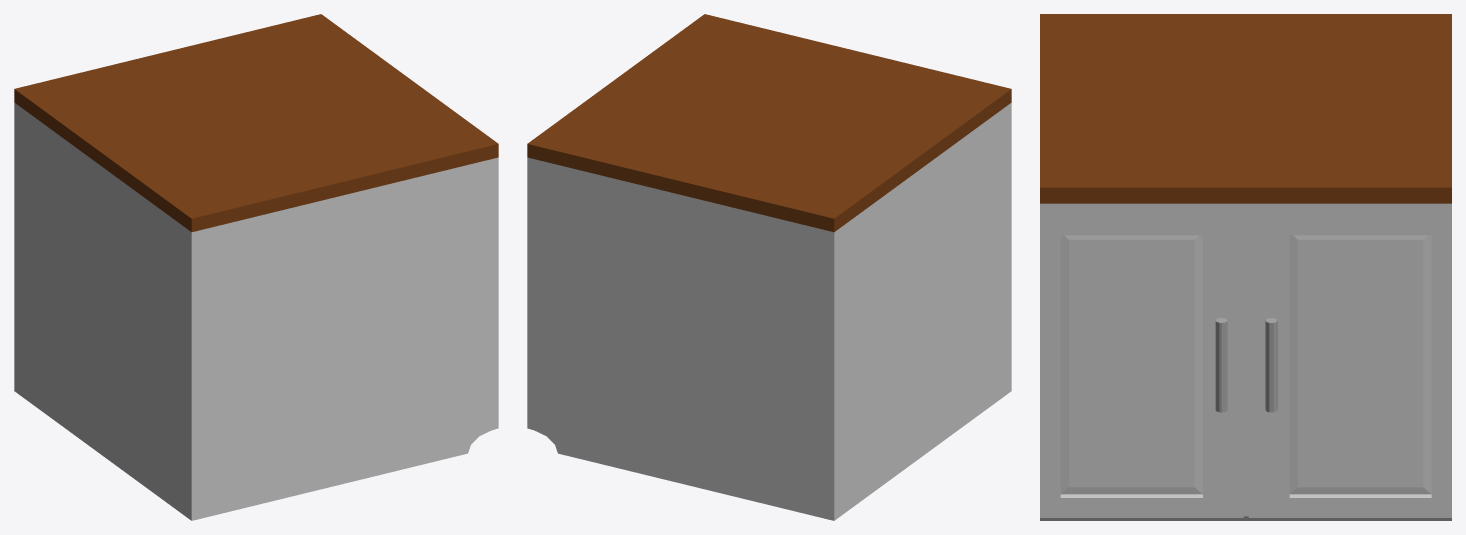
Rendered from Cuisine_Truc_en_haut.fbx.
The picture shows the model from 3 angles, left to right: view 1: azimuth 30°, elevation 25°; view 2: azimuth 150°, elevation 25°; view 3: azimuth 270°, elevation 25°; orthographic projection. The views are drawn at different scales.
Parts seen in each view (by area): view 1: Cube.003; view 2: Cube.003; view 3: Cube.003.
Part boxes in pixels (x1,y1,x2,y2): Cube.003: [14, 14, 498, 520]; Cube.003: [527, 14, 1011, 520]; Cube.003: [1040, 14, 1451, 520].
Size of the model in its own units: 212 by 188 by 200.
